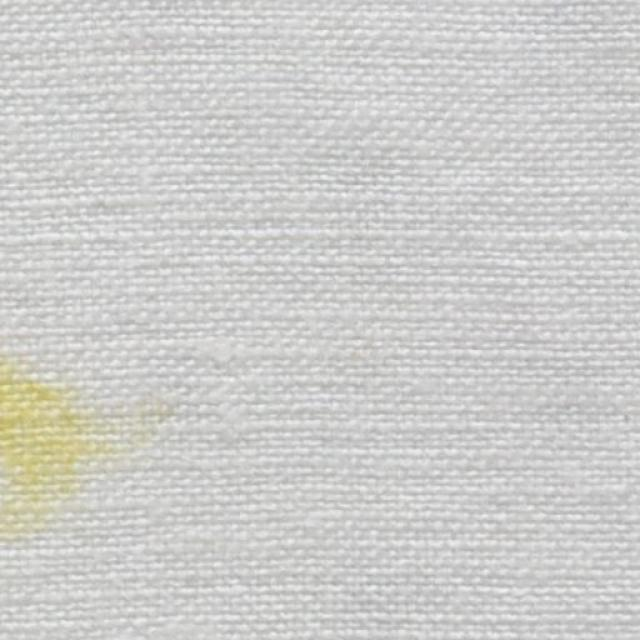Stain: (0, 356, 111, 541)
